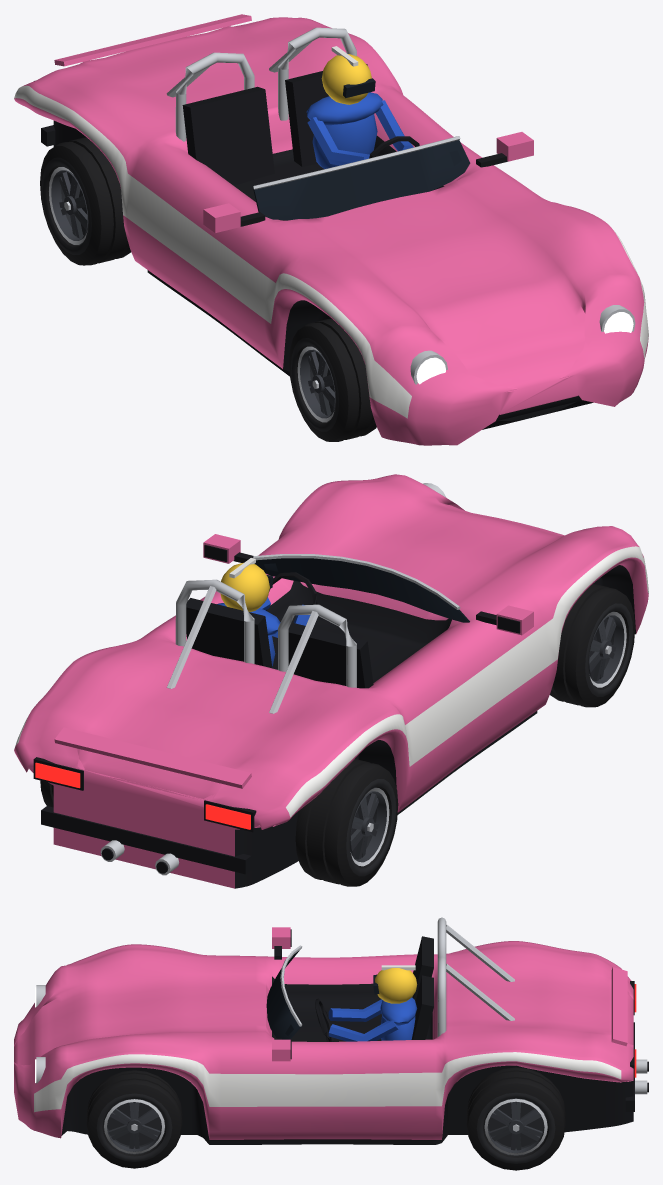
File: breeze.glb
3 renders of one model, top to bottom at view 1: azimuth 30°, elevation 25°; view 2: azimuth 150°, elevation 25°; view 3: azimuth 270°, elevation 25°, orthographic. The views are drawn at different scales.
Visible parts, largest first — view 1: body, wheel_RR, wheel_FR; view 2: body, wheel_RR, wheel_FR; view 3: body, wheel_RL, wheel_FL.
Boxes of the visible parts, bbox=[...] form: body: bbox=[14, 14, 648, 445]; wheel_RR: bbox=[40, 137, 130, 265]; wheel_FR: bbox=[289, 318, 376, 441]; body: bbox=[14, 474, 648, 888]; wheel_RR: bbox=[295, 759, 398, 886]; wheel_FR: bbox=[550, 583, 635, 707]; body: bbox=[14, 917, 648, 1144]; wheel_RL: bbox=[466, 1067, 565, 1170]; wheel_FL: bbox=[86, 1070, 182, 1168].
Size of the model in its own units: 1.87 by 1.24 by 4.11.
